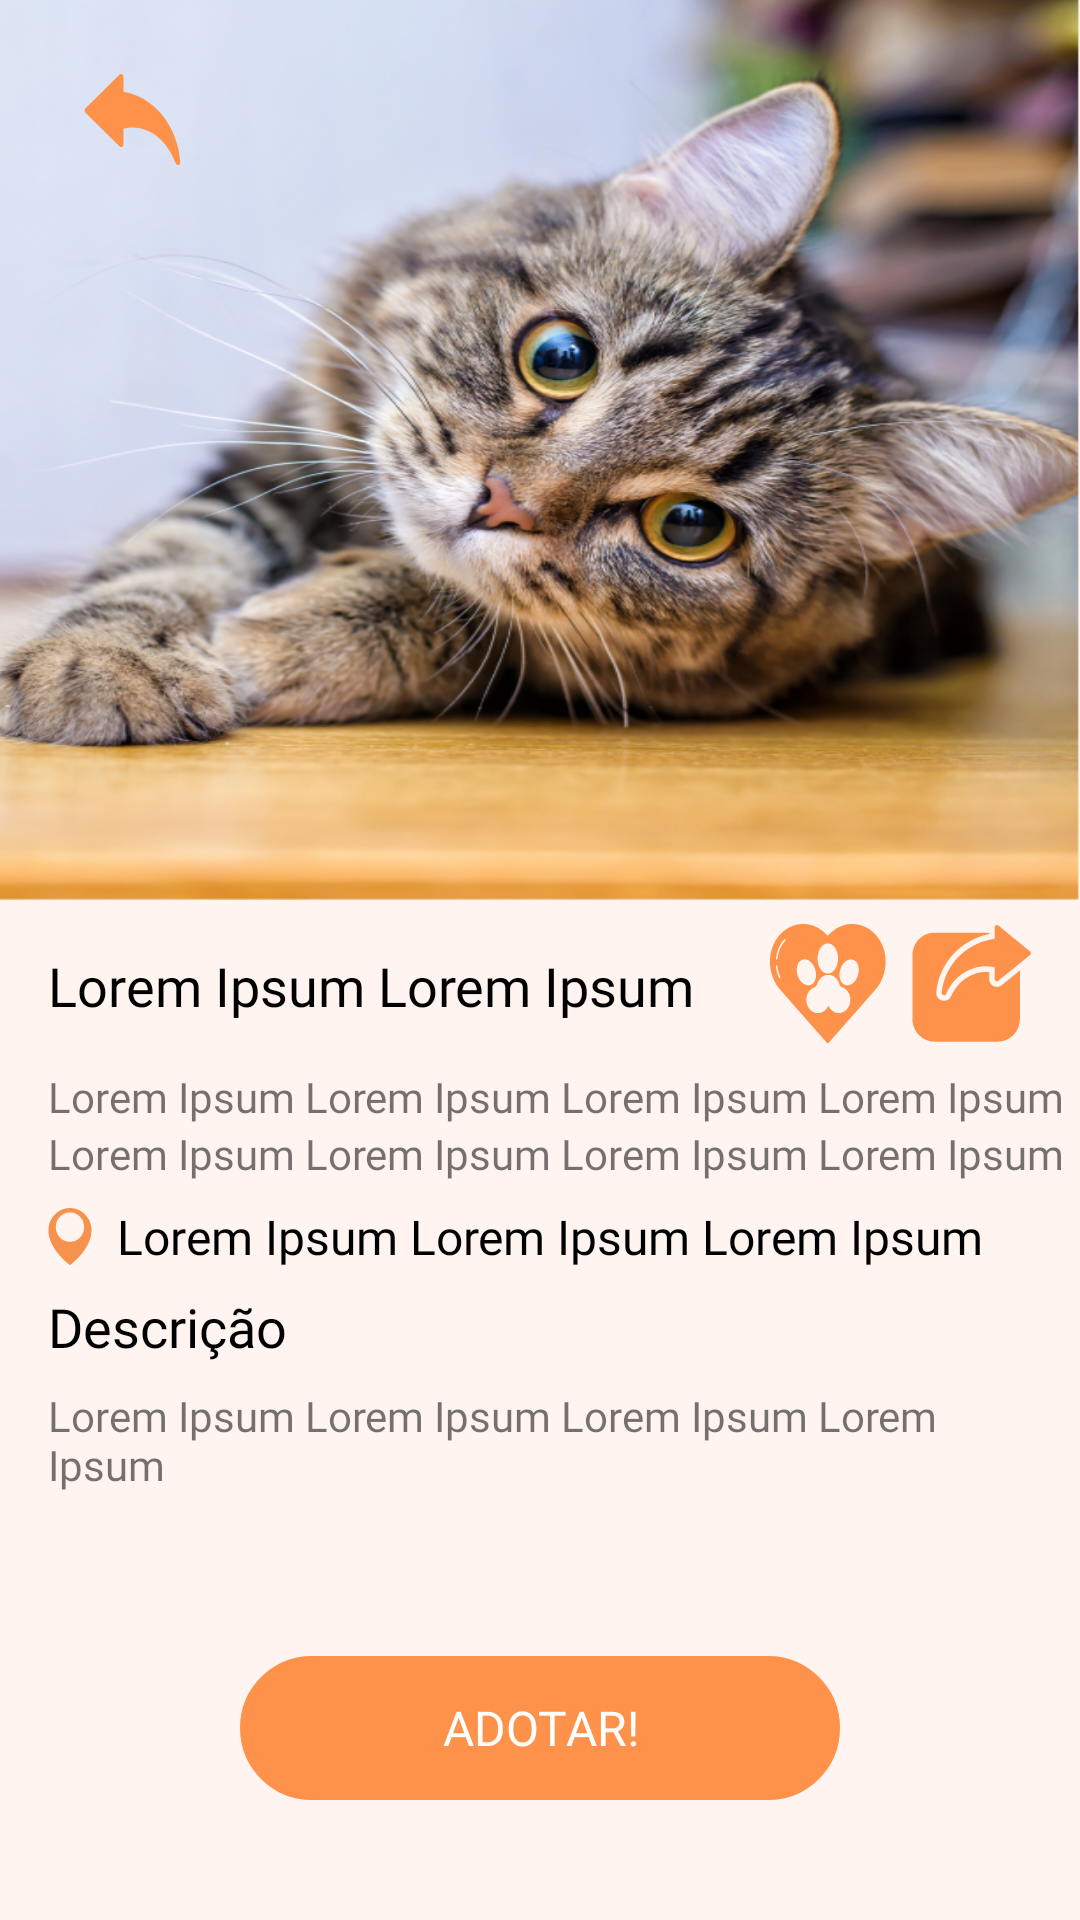

Point at icon controls on the screen. Image size 1080 × 1920, points as (x,y).
back: (132,119)
home localization: (70,1236)
like: (828,984)
share: (971,983)
